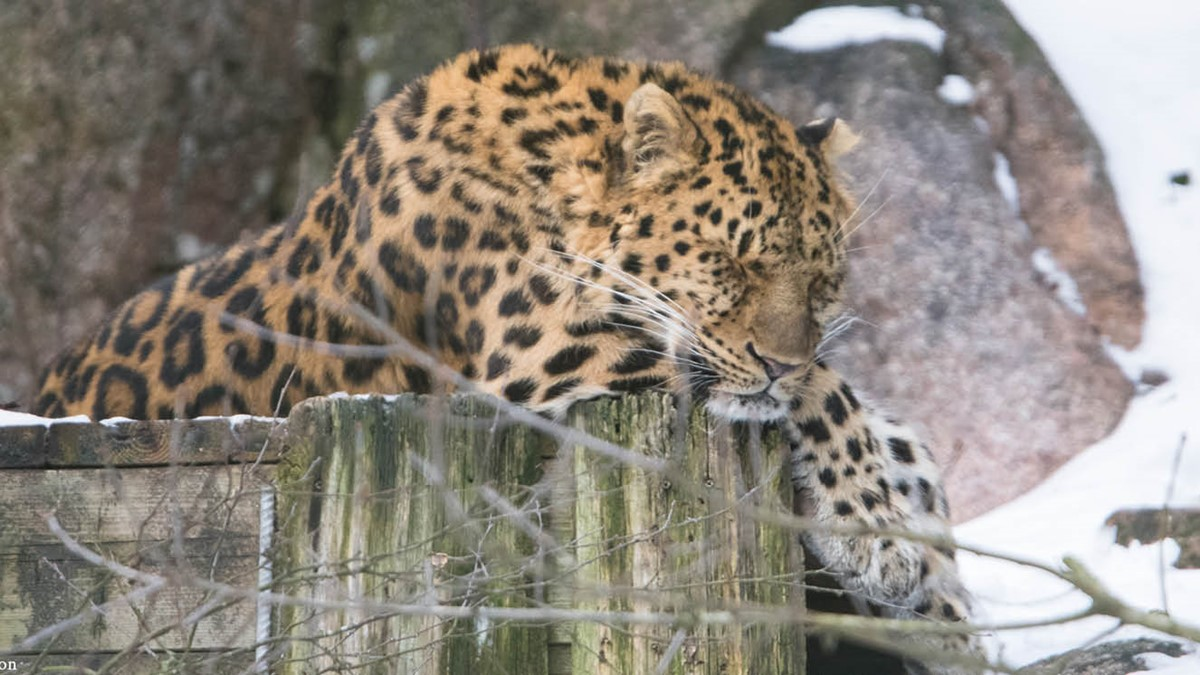amur_leopard: (385, 27, 907, 439)
